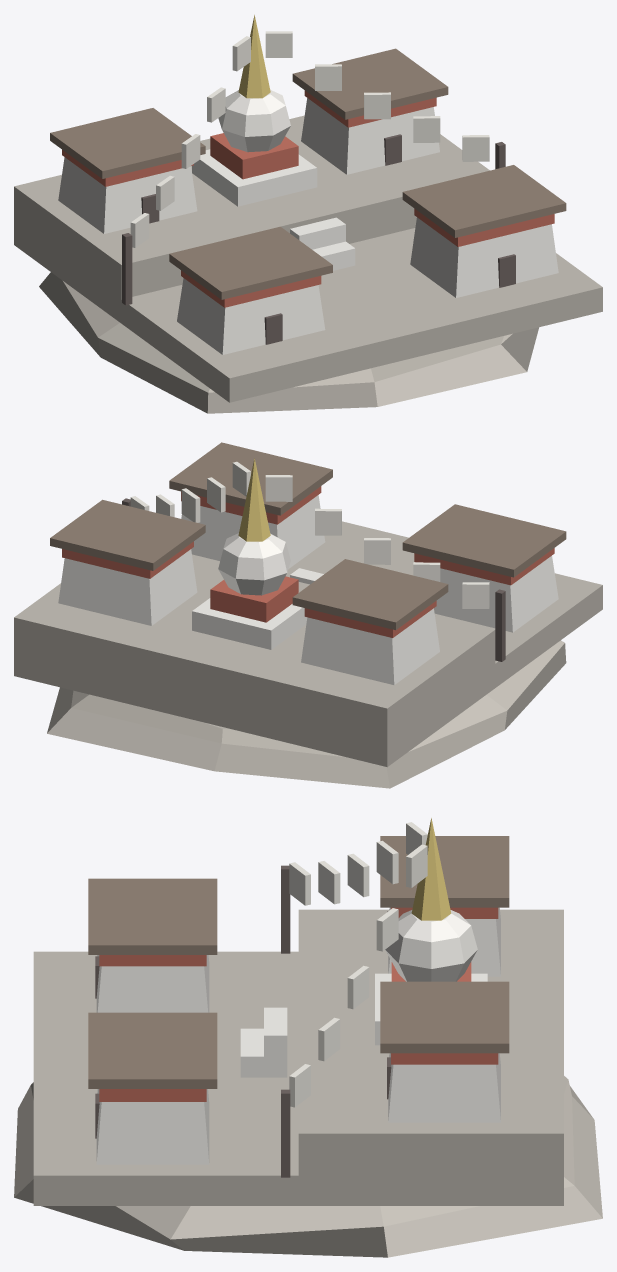
The model's file is town.glb.
3 renders of one model, top to bottom at view 1: azimuth 30°, elevation 25°; view 2: azimuth 150°, elevation 25°; view 3: azimuth 270°, elevation 25°, orthographic. The views are drawn at different scales.
Parts seen in each view (by area): view 1: highland_town; view 2: highland_town; view 3: highland_town.
Boxes of the visible parts, left/top/right/bottom form: highland_town: left=14, top=15, right=602, bottom=413; highland_town: left=14, top=442, right=602, bottom=788; highland_town: left=14, top=818, right=602, bottom=1257.
Size of the model in its own units: 0.8984 by 0.53 by 0.8882.
